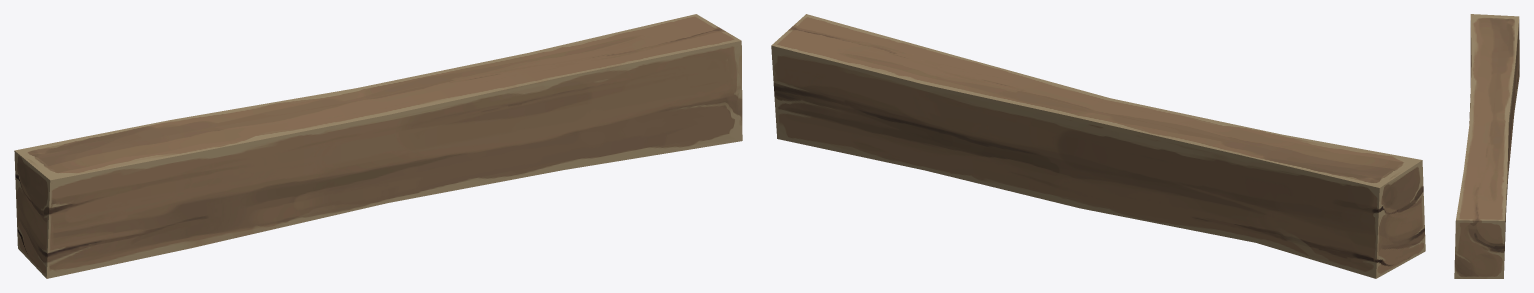
File: small_plank.fbx
3 views of the same model, side by side, from view 1: azimuth 30°, elevation 25°; view 2: azimuth 150°, elevation 25°; view 3: azimuth 270°, elevation 25° (orthographic). The views are drawn at different scales.
Parts seen in each view (by area): view 1: Furniture_009; view 2: Furniture_009; view 3: Furniture_009.
Part boxes in pixels (bbox=[...]): Furniture_009: bbox=[14, 14, 742, 278]; Furniture_009: bbox=[771, 14, 1425, 278]; Furniture_009: bbox=[1454, 14, 1519, 278].
Size of the model in its own units: 1.03 by 0.1741 by 0.1447.
